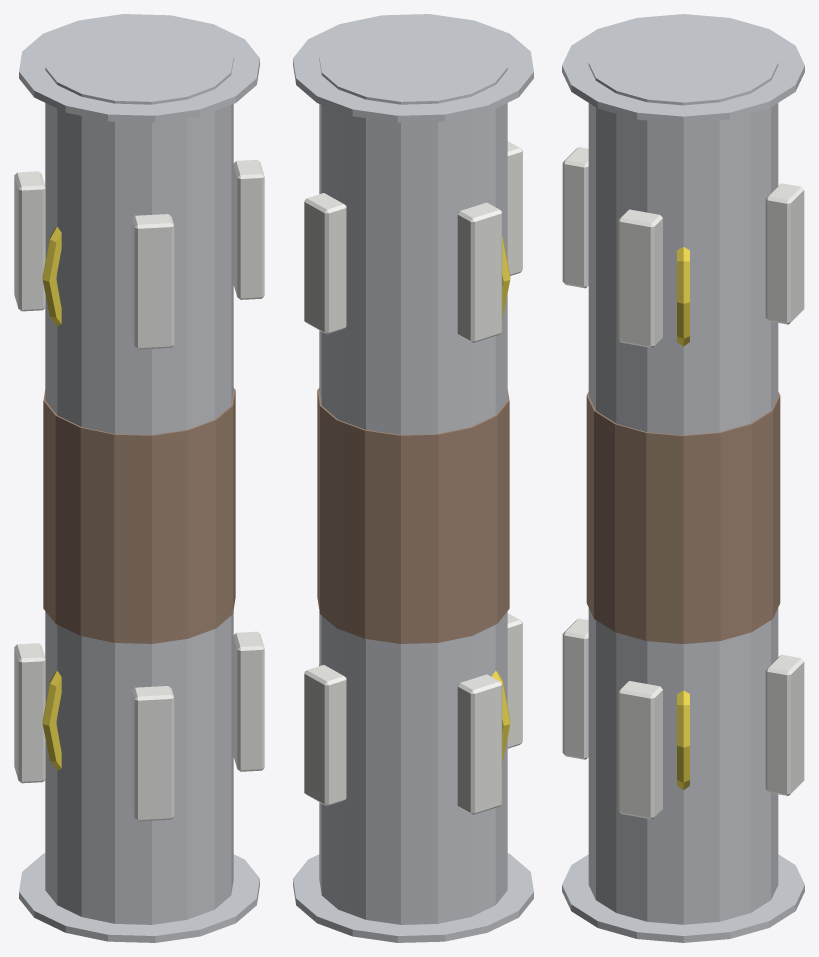
The model's file is offshore-oil-rig-and-platform-jacket-leg-section-0a2f885c__37002.glb.
The picture shows the model from 3 angles, left to right: view 1: azimuth 30°, elevation 25°; view 2: azimuth 150°, elevation 25°; view 3: azimuth 270°, elevation 25°; orthographic projection.
Parts seen in each view (by area): view 1: jacket-leg-section; view 2: jacket-leg-section; view 3: jacket-leg-section.
Part boxes in pixels (left/top/right/bottom): jacket-leg-section: left=14, top=14, right=264, bottom=942; jacket-leg-section: left=293, top=14, right=533, bottom=942; jacket-leg-section: left=562, top=14, right=804, bottom=942.
Bounding box in the file's own units: 1.59 × 6 × 1.59.
